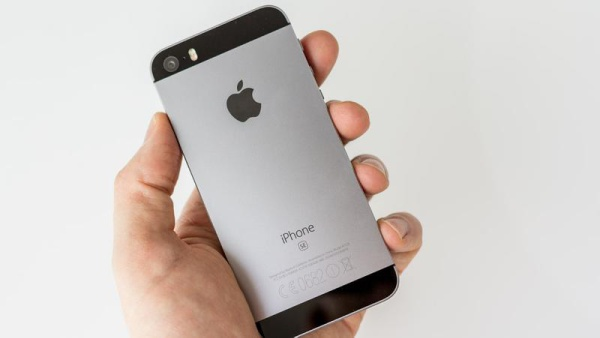apple: (224, 78, 264, 125)
